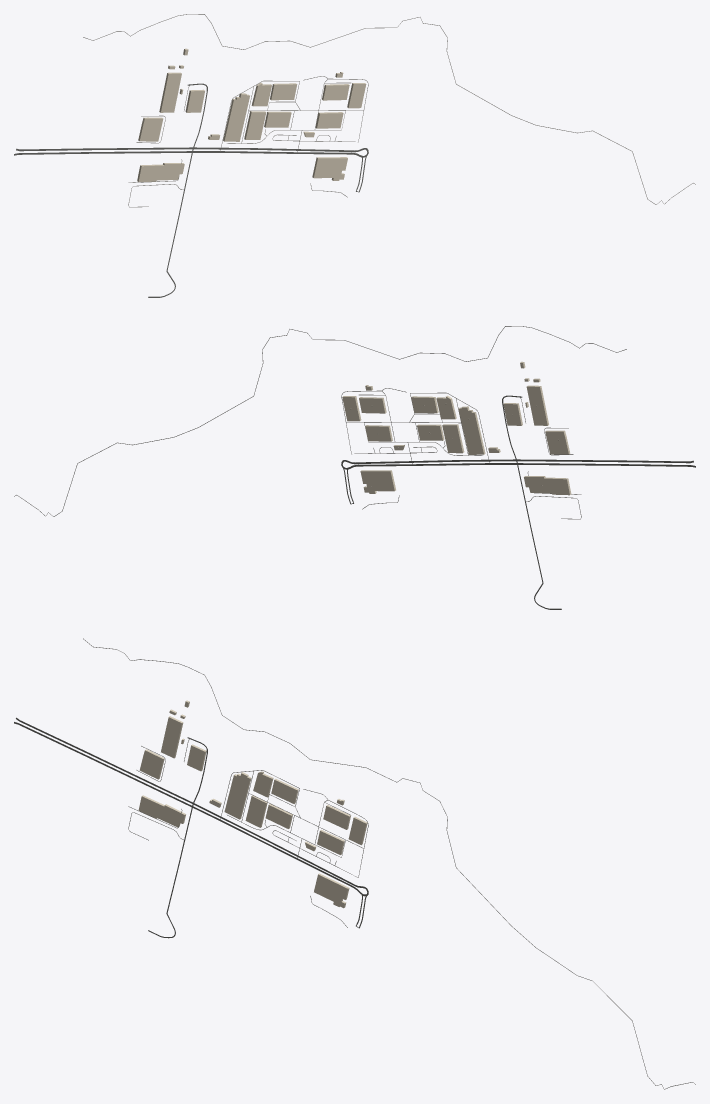
Rendered from historic-palestine-11_35_3528_3297.glb.
3 renders of one model, top to bottom at view 1: azimuth 30°, elevation 25°; view 2: azimuth 150°, elevation 25°; view 3: azimuth 330°, elevation 25°, orthographic.
Parts seen in each view (by area): view 1: Road שדרות התעשיה, Road שדרות התעשיה.001, Building_.009, Road .021, Building_, Building_.017, Building_.012, Building_.011, Building_.003; view 2: Road שדרות התעשיה, Road שדרות התעשיה.001, Building_.009, Road .021, Building_, Building_.017, Building_.012, Building_.011, Building_.003; view 3: Road שדרות התעשיה.001, Road שדרות התעשיה, Road .021, Building_.009, Building_, Building_.017.
Part boxes in pixels (bbox=[...]): Road שדרות התעשיה: bbox=[16, 147, 368, 152]; Road שדרות התעשיה.001: bbox=[14, 151, 368, 157]; Building_.009: bbox=[223, 93, 249, 141]; Road .021: bbox=[83, 14, 695, 204]; Building_: bbox=[137, 163, 184, 181]; Building_.017: bbox=[312, 157, 347, 180]; Building_.012: bbox=[159, 72, 181, 112]; Building_.011: bbox=[138, 117, 163, 141]; Building_.003: bbox=[244, 111, 266, 139]; Road שדרות התעשיה: bbox=[341, 459, 693, 464]; Road שדרות התעשיה.001: bbox=[341, 463, 695, 469]; Building_.009: bbox=[458, 406, 485, 454]; Road .021: bbox=[14, 326, 626, 516]; Building_: bbox=[524, 476, 571, 495]; Building_.017: bbox=[360, 470, 395, 493]; Building_.012: bbox=[526, 385, 548, 425]; Building_.011: bbox=[545, 430, 570, 454]; Building_.003: bbox=[442, 424, 464, 453]; Road שדרות התעשיה.001: bbox=[14, 722, 368, 896]; Road שדרות התעשיה: bbox=[16, 717, 368, 892]; Road .021: bbox=[83, 638, 695, 1089]; Building_.009: bbox=[224, 772, 251, 819]; Building_: bbox=[138, 795, 185, 827]; Building_.017: bbox=[314, 873, 349, 908].
Size of the model in its own units: 2072 by 899 by 8.7.
